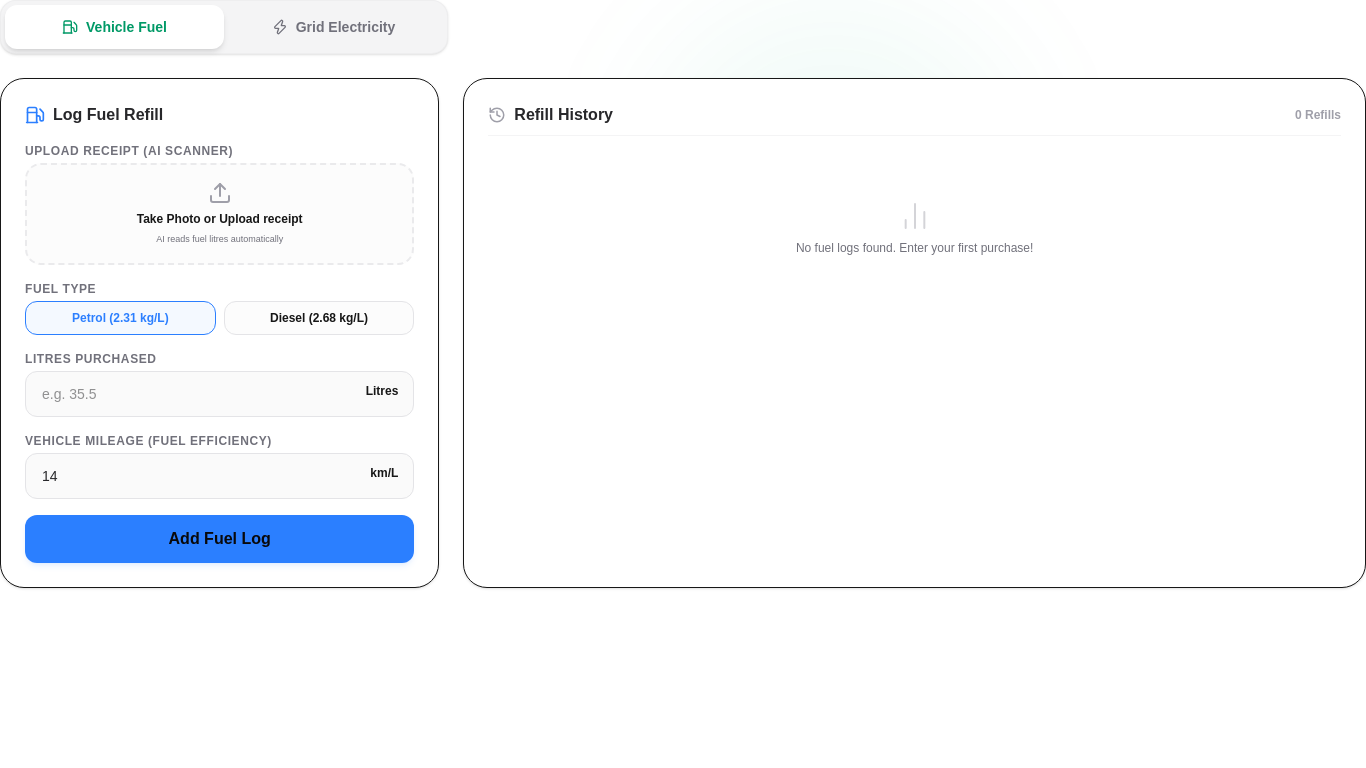
it: LoggersView Validation Tests › Vehicle Mileage Input › rejects a negative value
Type "35.5" into the number field labelled "Litres Purchased" at (220, 394), box [25,370,414,416]
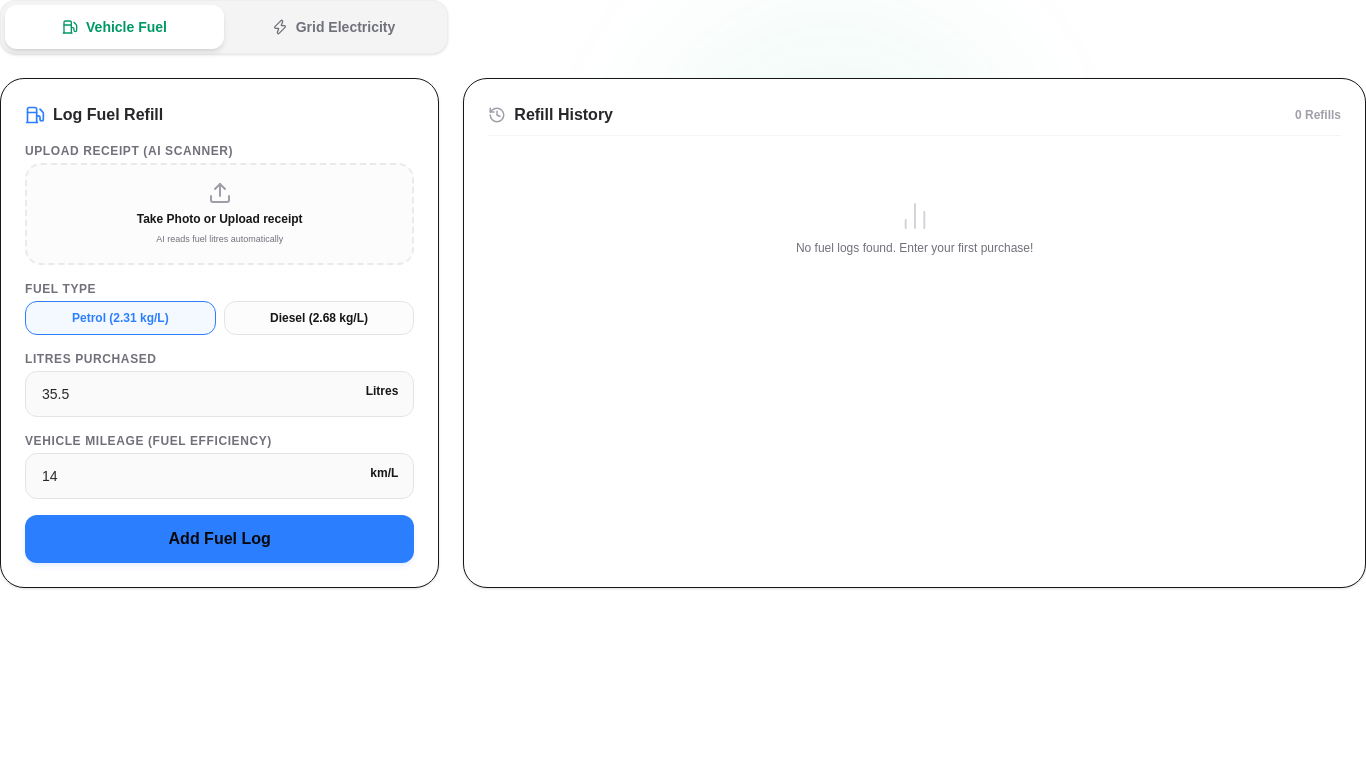
Replace the text in the number field labelled "Vehicle Mileage (Fuel Efficiency)" with "-1.5" at (220, 476), box [25,452,414,498]
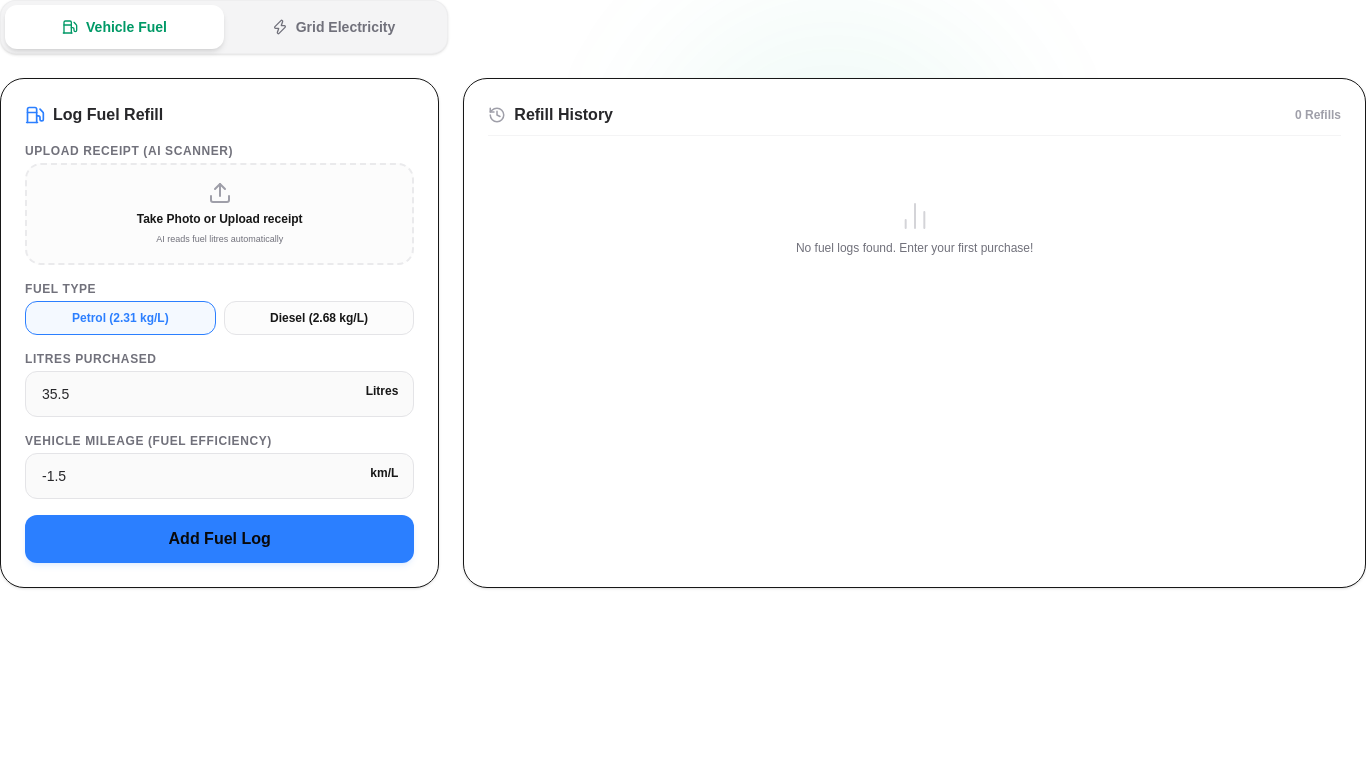
Click the button "Add Fuel Log" at (220, 538), box [25,514,414,562]
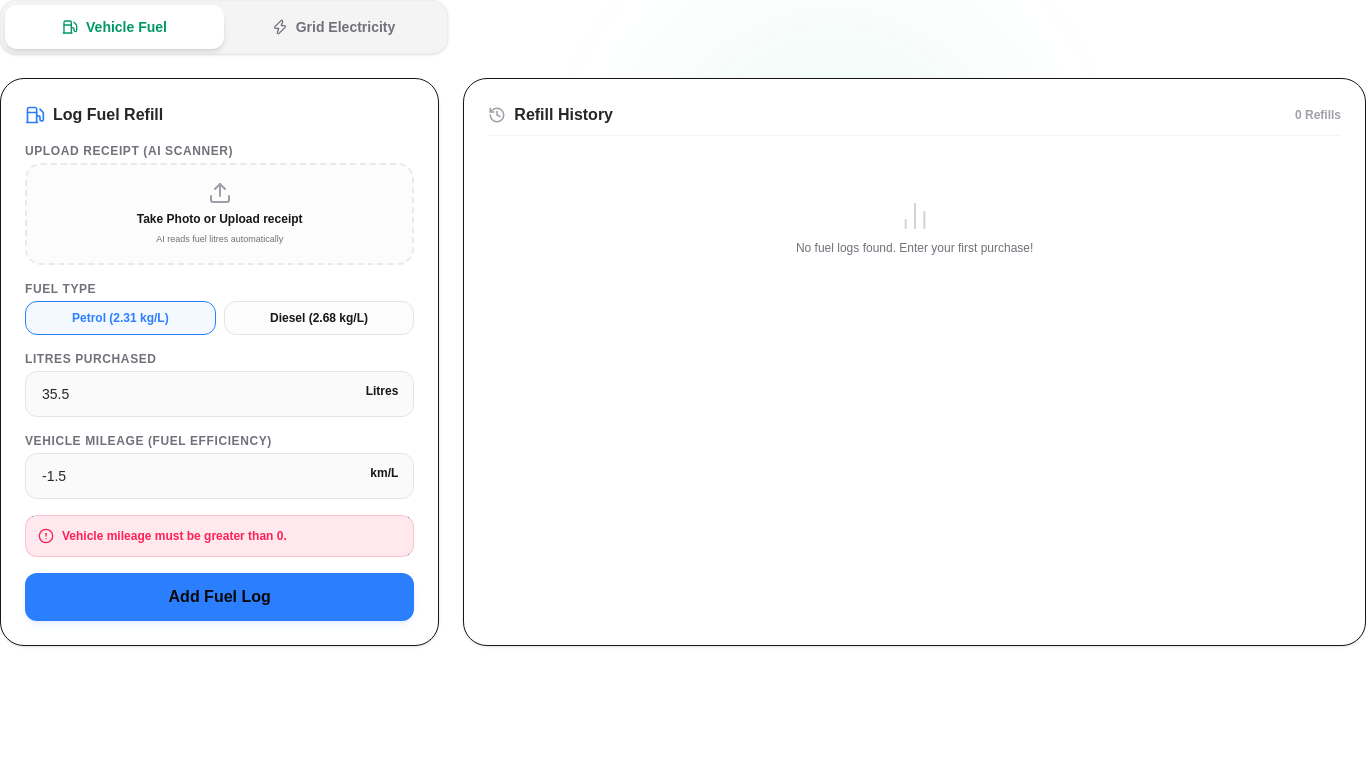
Now the message shows "Vehicle mileage must be greater than 0", box [62,528,287,542]
